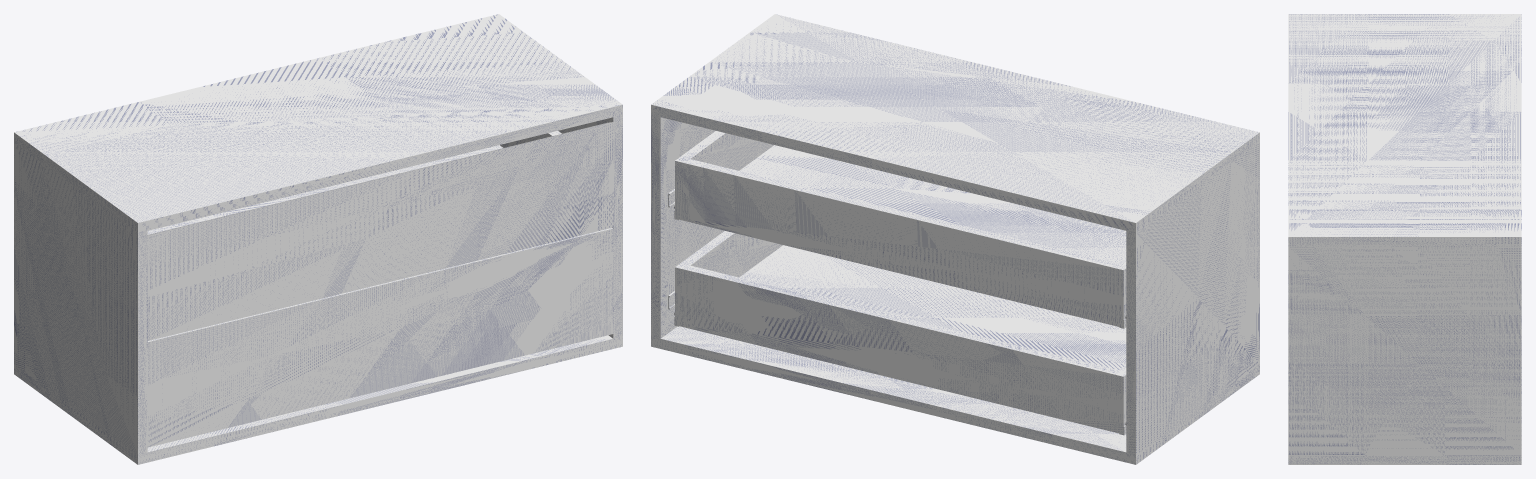
File: drawer.fbx
The picture shows the model from 3 angles, left to right: view 1: azimuth 30°, elevation 25°; view 2: azimuth 150°, elevation 25°; view 3: azimuth 270°, elevation 25°; orthographic projection. The views are drawn at different scales.
Visible parts, largest first — view 1: Group1, Group10, Group8, Group7; view 2: Group1, Group9, Group7; view 3: Group1.
Boxes of the visible parts, bbox=[...] form: Group1: bbox=[14, 14, 622, 464]; Group10: bbox=[147, 228, 613, 447]; Group8: bbox=[147, 122, 613, 340]; Group7: bbox=[147, 131, 561, 234]; Group1: bbox=[651, 14, 1259, 464]; Group9: bbox=[675, 231, 1126, 434]; Group7: bbox=[675, 131, 1126, 327]; Group1: bbox=[1288, 14, 1521, 464].
Size of the model in its own units: 746 by 356 by 330.
